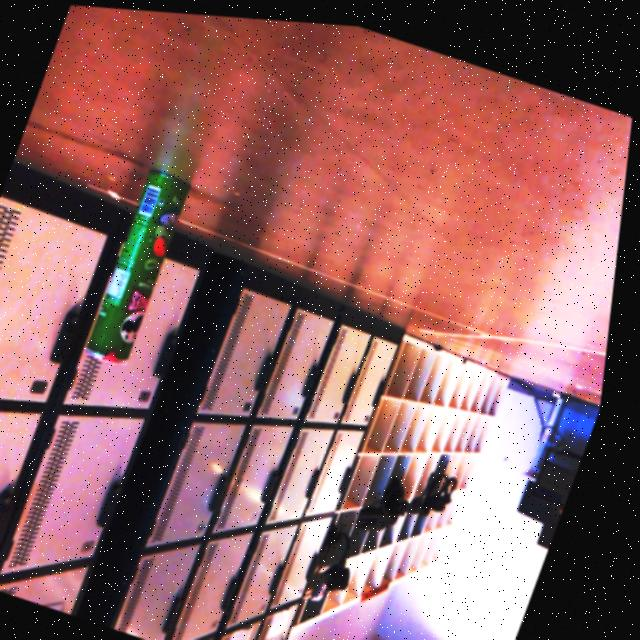greenpringles: (81, 145, 212, 381)
